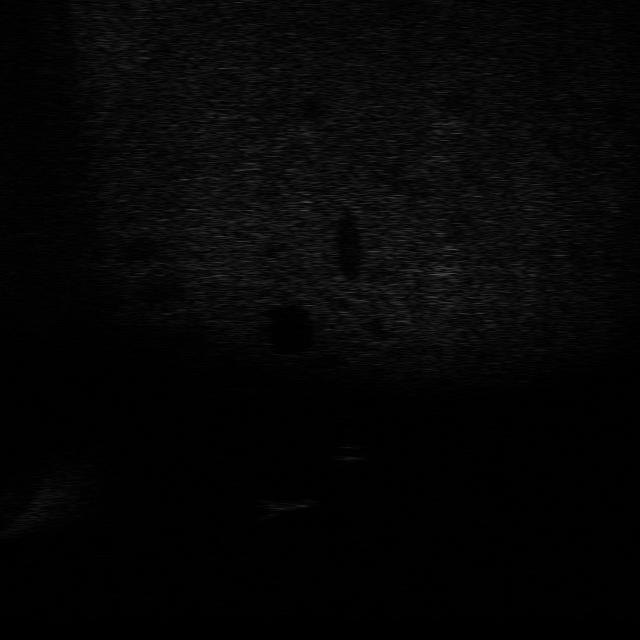ball: (322, 438, 368, 464)
square cage: (250, 490, 320, 523)
